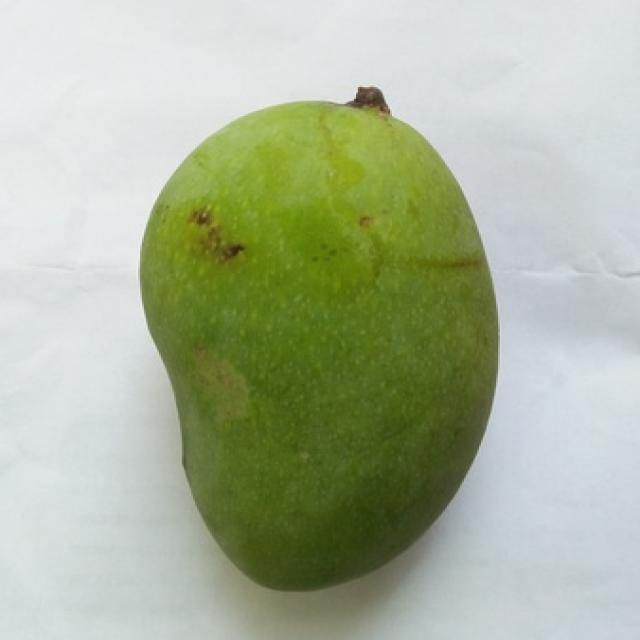Mango: (140, 102, 494, 589)
